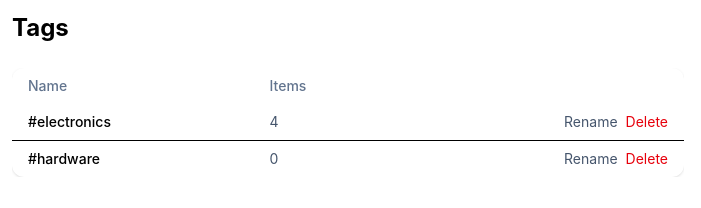
Test: TagsView › 409 tag_exists toasts the backend message and reverts the row to the old name
The image size is (701, 208).
Click the 1st button "Rename": coordinates (591, 122) top-left (564, 112), bottom-right (618, 132)
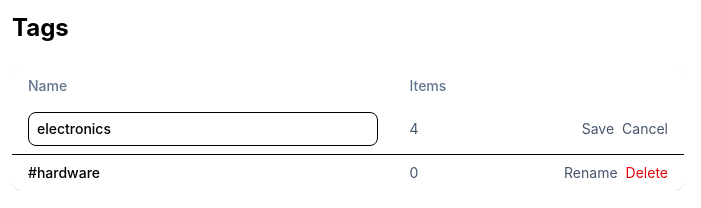
Replace the text in the field named "Tag name" with "hardware": coordinates (203, 129) top-left (28, 112), bottom-right (378, 146)
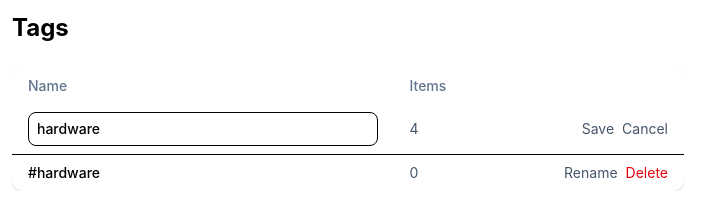
Press Enter in the field named "Tag name", box top-left (28, 112), bottom-right (378, 146)
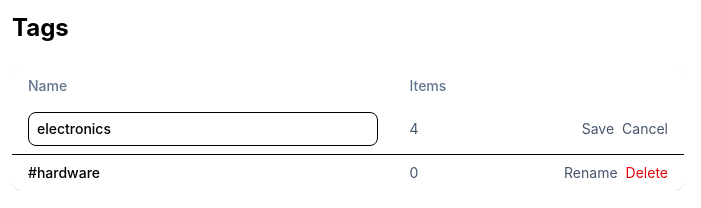
expect the field named "Tag name" holds "electronics": met, box top-left (28, 112), bottom-right (378, 146)
